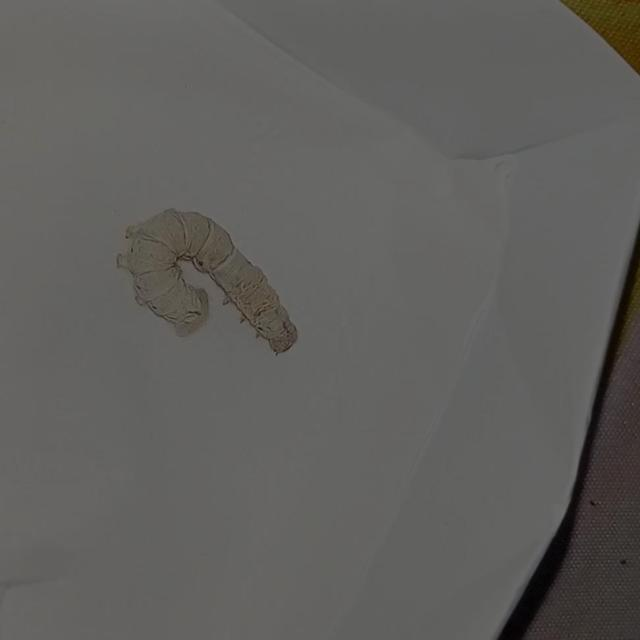Healthy: (112, 194, 303, 358)
